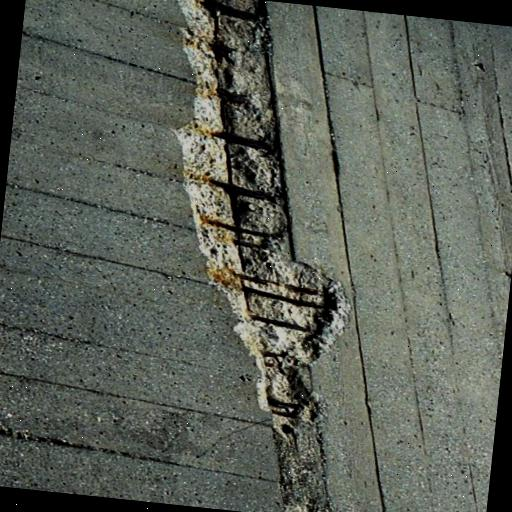spalling: (175, 0, 352, 512)
